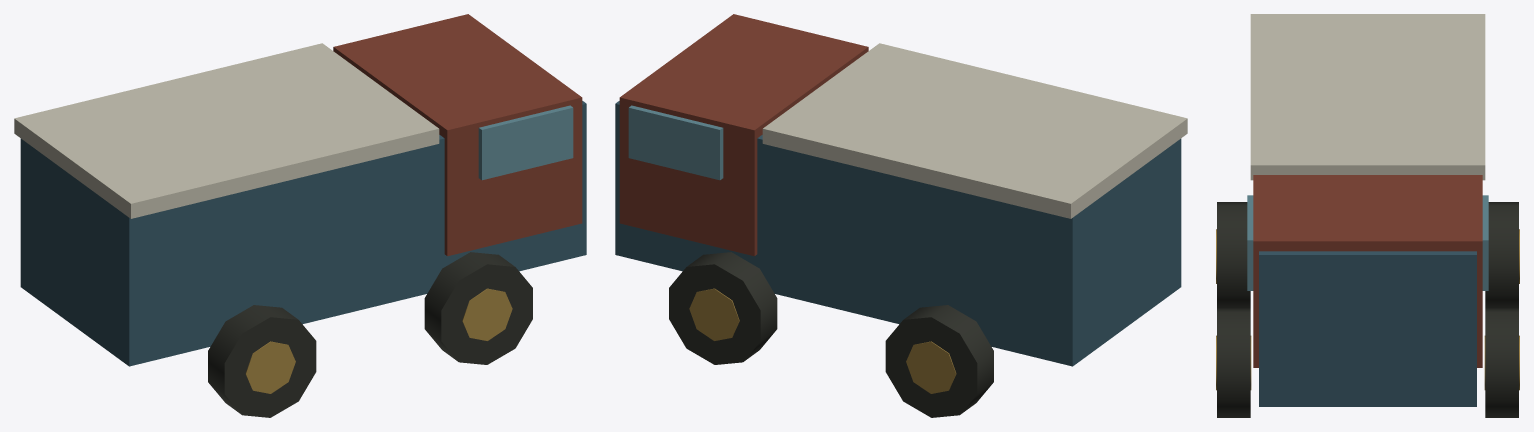
File: custom-vehicle-kamyon.glb
3 views of the same model, side by side, from view 1: azimuth 30°, elevation 25°; view 2: azimuth 150°, elevation 25°; view 3: azimuth 270°, elevation 25° (orthographic).
Parts seen in each view (by area): view 1: custom-vehicle-kamyon; view 2: custom-vehicle-kamyon; view 3: custom-vehicle-kamyon.
Boxes of the visible parts, box(x1,y1,x2,y2) form: custom-vehicle-kamyon: box(14, 14, 586, 417); custom-vehicle-kamyon: box(615, 14, 1187, 417); custom-vehicle-kamyon: box(1216, 14, 1519, 417).
Size of the model in its own units: 1 by 0.4817 by 0.5686.
